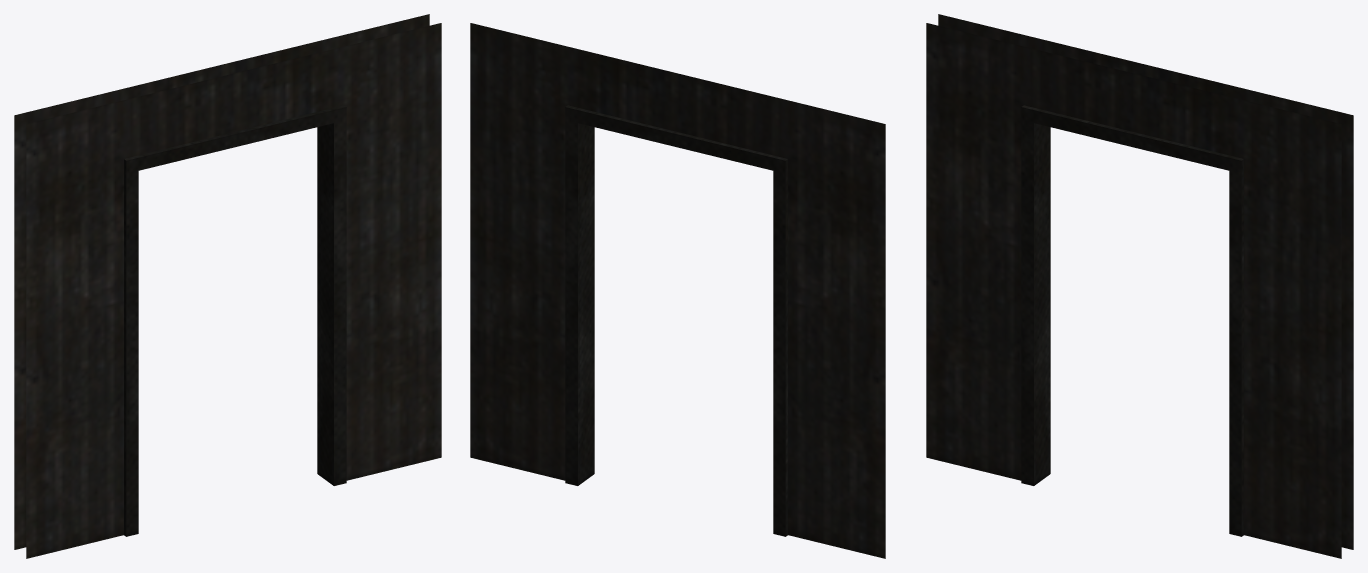
File: doorway_slim_1_1.dae
3 views of the same model, side by side, from view 1: azimuth 30°, elevation 25°; view 2: azimuth 150°, elevation 25°; view 3: azimuth 330°, elevation 25° (orthographic).
Parts seen in each view (by area): view 1: doorway_slim_1_1; view 2: doorway_slim_1_1; view 3: doorway_slim_1_1.
Boxes of the visible parts, x1,y1,x2,y2 form: doorway_slim_1_1: [14, 14, 441, 558]; doorway_slim_1_1: [470, 23, 885, 558]; doorway_slim_1_1: [926, 14, 1353, 558].
Bounding box in the file's own units: 2 × 0.14 × 2.
2 materials, 2 textured.
